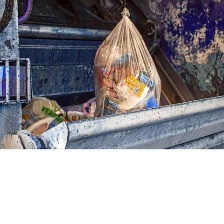plastic_bag: (89, 5, 168, 123), (17, 93, 67, 130)
